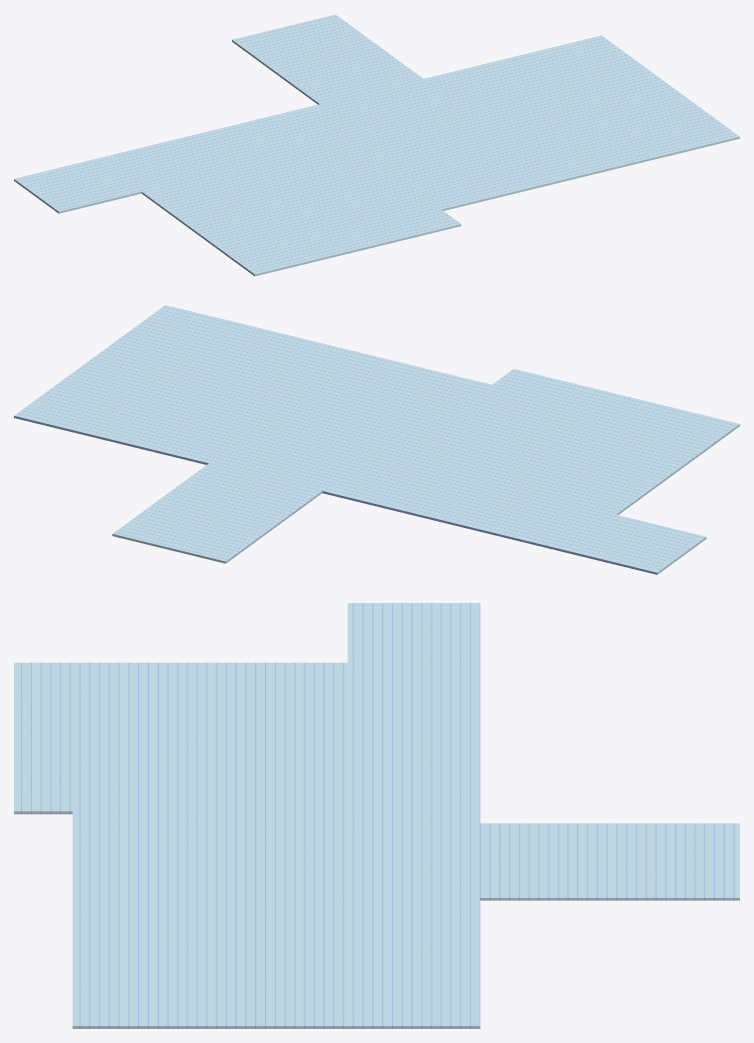
File: Floor_03.fbx
3 views of the same model, one above another, from view 1: azimuth 30°, elevation 25°; view 2: azimuth 150°, elevation 25°; view 3: azimuth 270°, elevation 25° (orthographic). The views are drawn at different scales.
Visible parts, largest first — view 1: Floor_01; view 2: Floor_01; view 3: Floor_01.
Part boxes in pixels (box(x1,y1,x2,y2)): Floor_01: box(14, 14, 739, 276); Floor_01: box(14, 305, 739, 574); Floor_01: box(14, 603, 739, 1028).
Bounding box in the file's own units: 7546 × 24.77 × 5477.
1 material, 1 textured.
